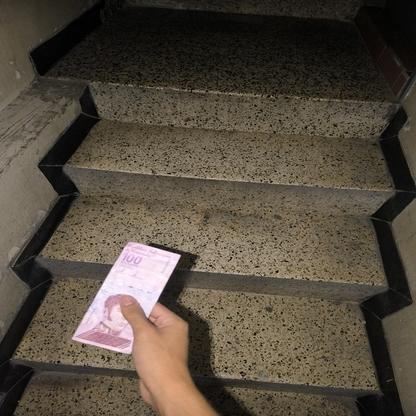one_hundred-front-vef: (70, 240, 182, 354)
